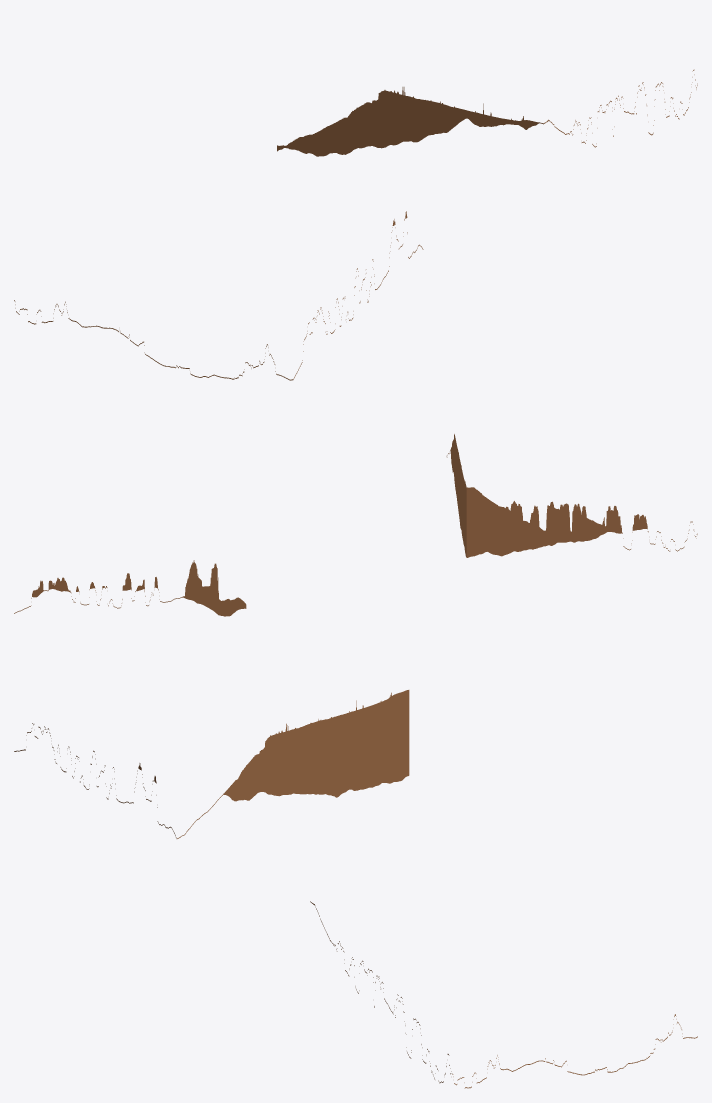
Rendered from terrain-173.glb.
3 views of the same model, one above another, from view 1: azimuth 30°, elevation 25°; view 2: azimuth 150°, elevation 25°; view 3: azimuth 270°, elevation 25° (orthographic). The views are drawn at different scales.
Parts seen in each view (by area): view 1: terrain-173; view 2: terrain-173; view 3: terrain-173.
Boxes of the visible parts, x1,y1,x2,y2 form: terrain-173: (14, 69, 697, 380); terrain-173: (14, 434, 697, 616); terrain-173: (14, 690, 697, 1088).
Bounding box in the file's own units: 954 × 209 × 771.
